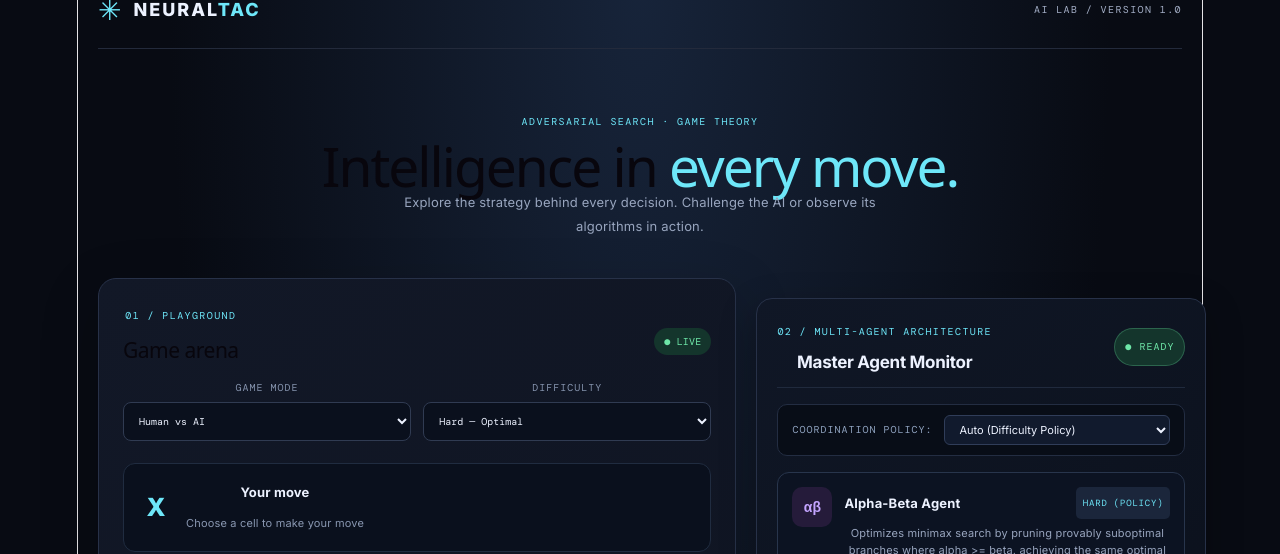
it: React game UI › undoes the winning human move and rolls back its scoreboard increment
Select "Easy" in the dropdown labelled "DIFFICULTY" at coordinates (567, 421), box [423,402,711,441]
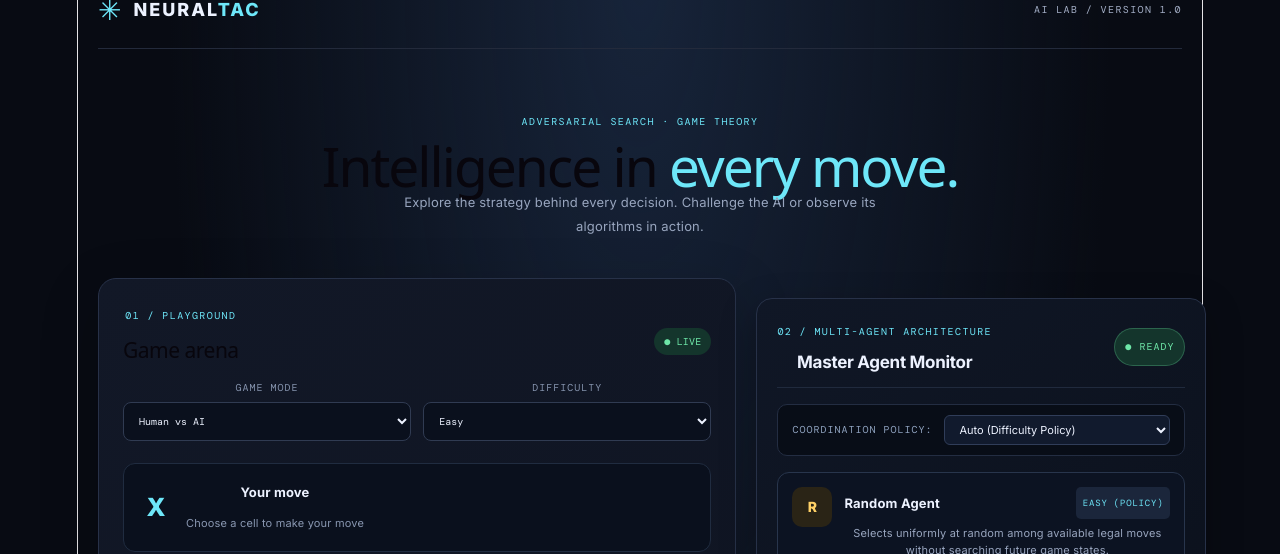
Select "Random Agent (Uniform)" in the dropdown named "Select AI agent strategy" at coordinates (1057, 430), box [944,415,1170,445]
(page scrolled)
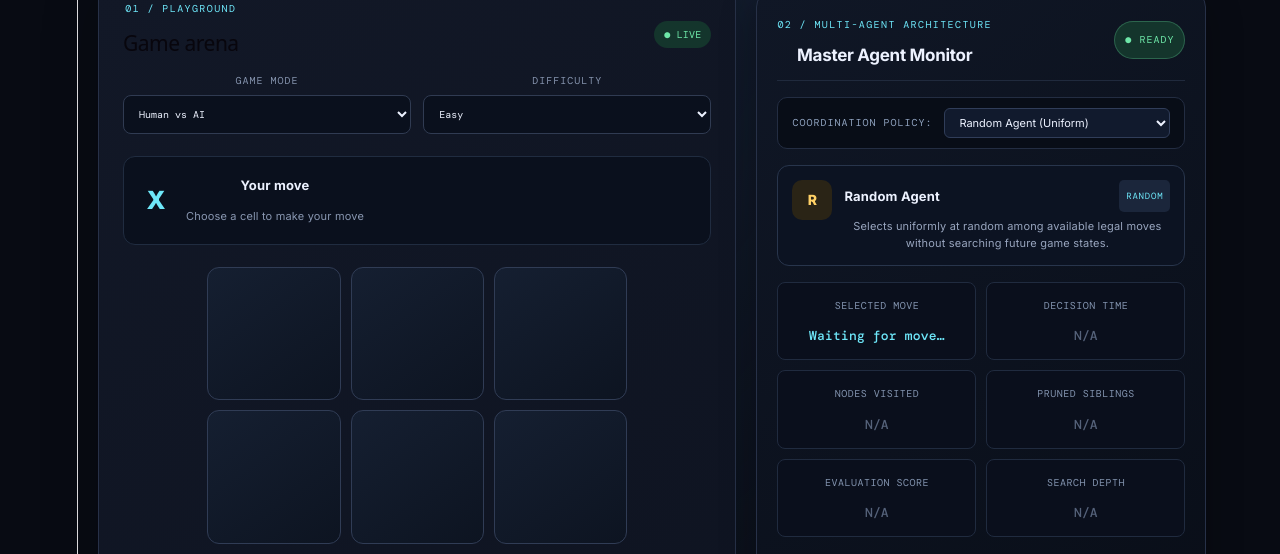
Click the cell named "Cell 1: empty" at coordinates (274, 334), box [207,267,340,400]
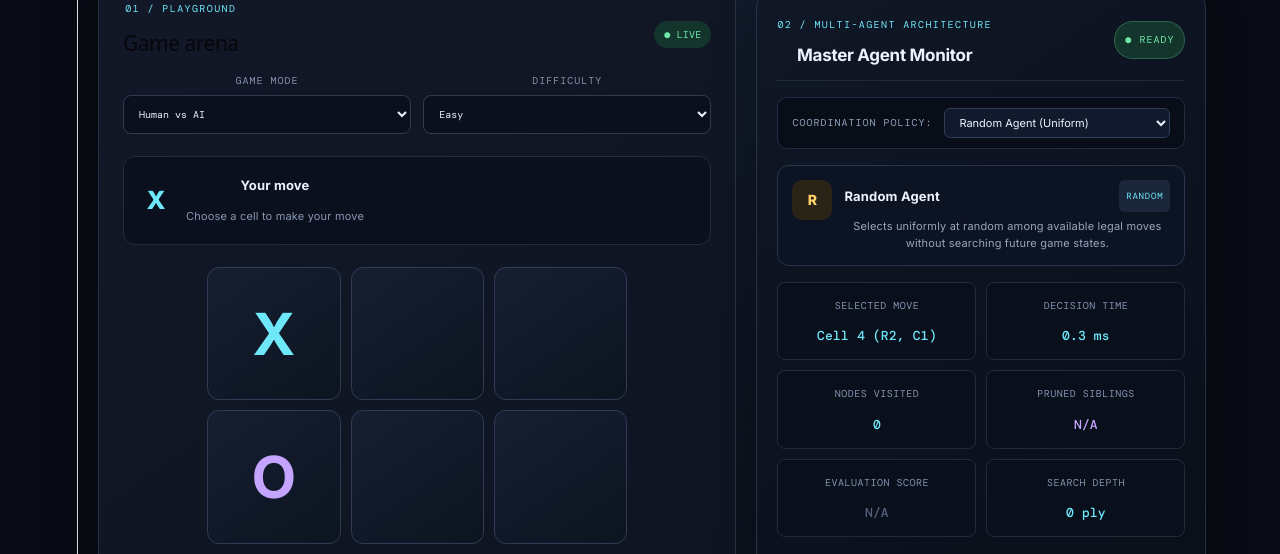
Click the cell named "Cell 2: empty" at coordinates (417, 334), box [350,267,484,400]
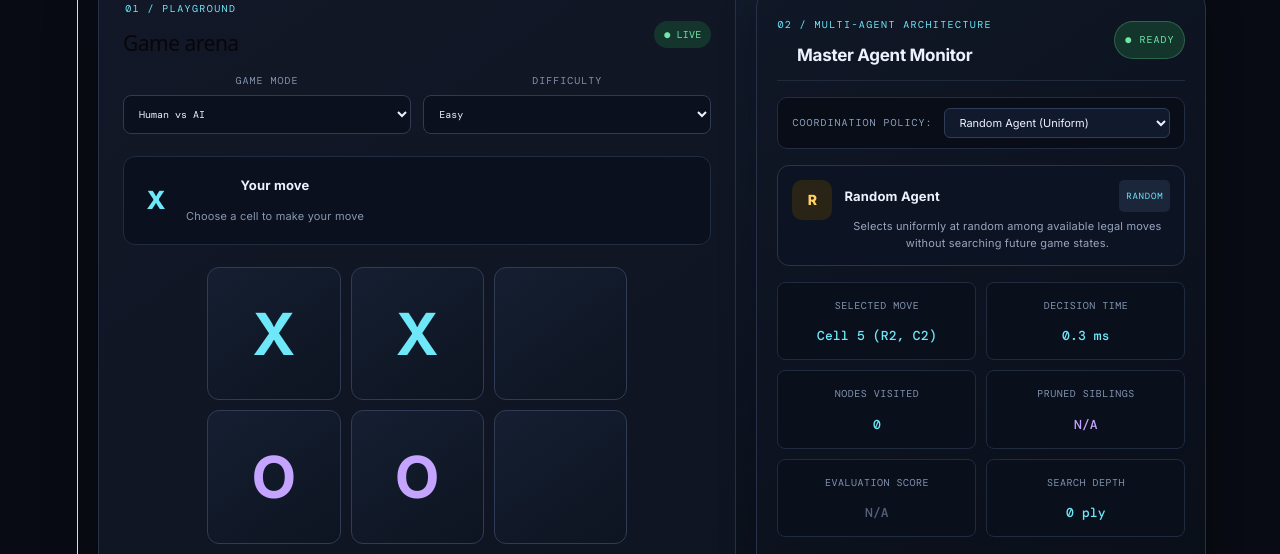
Click the cell named "Cell 3: empty" at coordinates (560, 334), box [494,267,627,400]
(page scrolled)
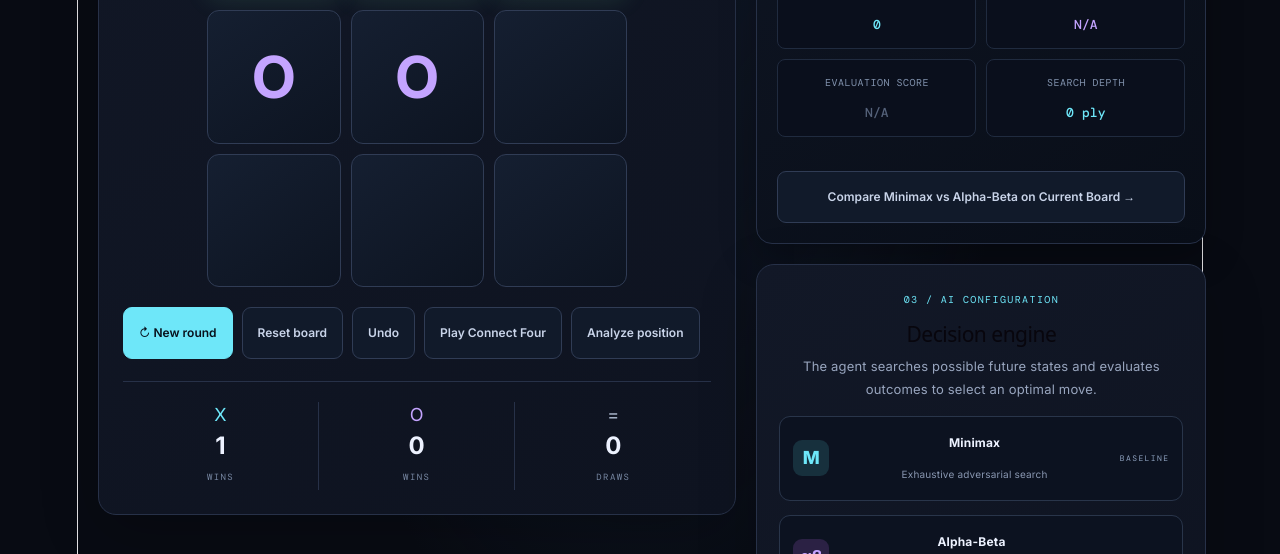
Result: the text "1" is shown at [215,433,226,459]
Click the button "Undo" at coordinates (384, 333), box [352,307,415,359]
(page scrolled)
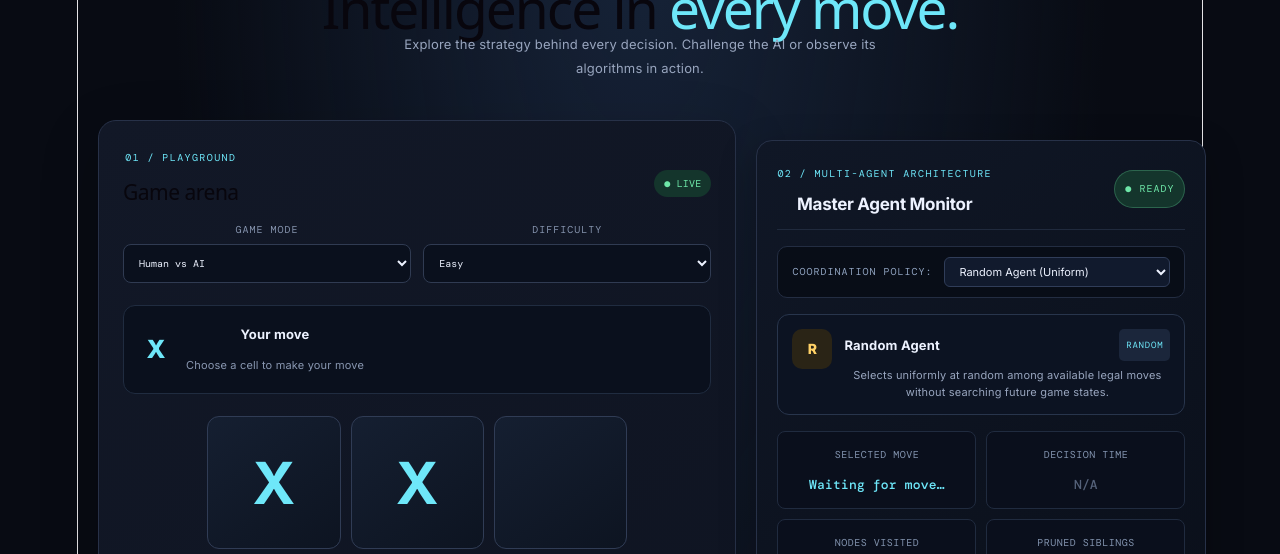
Result: the text "Your move" is shown at [240,326,310,342]
